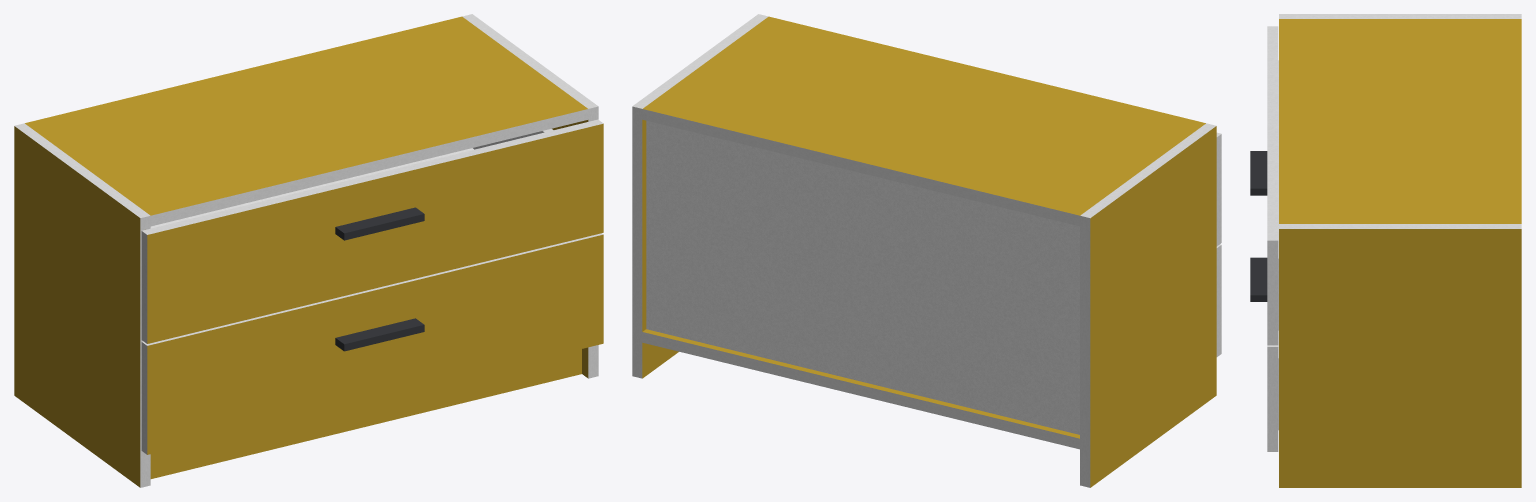
The model's file is FET-KCT-std.glb.
3 views of the same model, side by side, from view 1: azimuth 30°, elevation 25°; view 2: azimuth 150°, elevation 25°; view 3: azimuth 270°, elevation 25° (orthographic). The views are drawn at different scales.
Visible parts, largest first — view 1: top:pbr, d1-front:pbr, d2-front:pbr, side-l:pbr, plinth:pbr, top:sheet:eyJtIjoibWRmIiwic2lkZSI6ImVkZ2UtbG9uZyIsInNlZWQiOj, d2-front:sheet:eyJtIjoibWRmIiwic2lkZSI6ImVkZ2UtbG9uZyIsInNlZ, pull, side-l:sheet:eyJtIjoibWRmIiwic2lkZSI6ImVkZ2UtZW5kIiwic2VlZCI, side-r:sheet:eyJtIjoibWRmIiwic2lkZSI6ImVkZ2UtZW5kIiwic2VlZCI, d1-front:sheet:eyJtIjoibWRmIiwic2lkZSI6ImVkZ2UtbG9uZyIsInNlZ, side-l:sheet:eyJtIjoibWRmIiwic2lkZSI6ImVkZ2UtbG9uZyIsInNlZWQ (+3 smaller); view 2: back:sheet:eyJtIjoibWRmIiwic2lkZSI6ImZhY2UiLCJzZWVkIjo0LCJ0a, top:pbr, side-l:pbr, top:sheet:eyJtIjoibWRmIiwic2lkZSI6ImVkZ2UtbG9uZyIsInNlZWQiOj, bottom:sheet:eyJtIjoibWRmIiwic2lkZSI6ImVkZ2UtbG9uZyIsInNlZWQ, side-r:sheet:eyJtIjoibWRmIiwic2lkZSI6ImVkZ2UtbG9uZyIsInNlZWQ, side-l:sheet:eyJtIjoibWRmIiwic2lkZSI6ImVkZ2UtbG9uZyIsInNlZWQ, bottom:pbr, side-r:pbr, side-r:sheet:eyJtIjoibWRmIiwic2lkZSI6ImVkZ2UtZW5kIiwic2VlZCI, side-l:sheet:eyJtIjoibWRmIiwic2lkZSI6ImVkZ2UtZW5kIiwic2VlZCI, d2-front:sheet:eyJtIjoibWRmIiwic2lkZSI6ImVkZ2UtZW5kIiwic2VlZ (+1 smaller); view 3: side-r:pbr, top:pbr, d2-front:sheet:eyJtIjoibWRmIiwic2lkZSI6ImVkZ2UtbG9uZyIsInNlZ, pull, d2-front:sheet:eyJtIjoibWRmIiwic2lkZSI6ImVkZ2UtZW5kIiwic2VlZ, d1-front:sheet:eyJtIjoibWRmIiwic2lkZSI6ImVkZ2UtZW5kIiwic2VlZ, side-l:sheet:eyJtIjoibWRmIiwic2lkZSI6ImVkZ2UtZW5kIiwic2VlZCI, side-r:sheet:eyJtIjoibWRmIiwic2lkZSI6ImVkZ2UtZW5kIiwic2VlZCI.
Boxes of the visible parts, box(x1,y1,x2,y2) form: top:pbr: box(25, 16, 587, 215); d1-front:pbr: box(147, 234, 603, 454); d2-front:pbr: box(147, 123, 603, 343); side-l:pbr: box(14, 126, 140, 487); plinth:pbr: box(150, 349, 581, 478); top:sheet:eyJtIjoibWRmIiwic2lkZSI6ImVkZ2UtbG9uZyIsInNlZWQiOj: box(150, 109, 588, 226); d2-front:sheet:eyJtIjoibWRmIiwic2lkZSI6ImVkZ2UtbG9uZyIsInNlZ: box(142, 119, 603, 234); pull: box(335, 207, 424, 351); side-l:sheet:eyJtIjoibWRmIiwic2lkZSI6ImVkZ2UtZW5kIiwic2VlZCI: box(14, 123, 150, 217); side-r:sheet:eyJtIjoibWRmIiwic2lkZSI6ImVkZ2UtZW5kIiwic2VlZCI: box(462, 14, 598, 108); d1-front:sheet:eyJtIjoibWRmIiwic2lkZSI6ImVkZ2UtbG9uZyIsInNlZ: box(142, 233, 603, 345); side-l:sheet:eyJtIjoibWRmIiwic2lkZSI6ImVkZ2UtbG9uZyIsInNlZWQ: box(140, 216, 150, 487); back:sheet:eyJtIjoibWRmIiwic2lkZSI6ImZhY2UiLCJzZWVkIjo0LCJ0a: box(646, 120, 1079, 434); top:pbr: box(643, 16, 1205, 215); side-l:pbr: box(1090, 126, 1216, 487); top:sheet:eyJtIjoibWRmIiwic2lkZSI6ImVkZ2UtbG9uZyIsInNlZWQiOj: box(642, 109, 1079, 226); bottom:sheet:eyJtIjoibWRmIiwic2lkZSI6ImVkZ2UtbG9uZyIsInNlZWQ: box(642, 332, 1079, 449); side-r:sheet:eyJtIjoibWRmIiwic2lkZSI6ImVkZ2UtbG9uZyIsInNlZWQ: box(632, 106, 642, 378); side-l:sheet:eyJtIjoibWRmIiwic2lkZSI6ImVkZ2UtbG9uZyIsInNlZWQ: box(1080, 215, 1090, 487); bottom:pbr: box(643, 329, 1079, 438); side-r:pbr: box(642, 119, 678, 378); side-r:sheet:eyJtIjoibWRmIiwic2lkZSI6ImVkZ2UtZW5kIiwic2VlZCI: box(632, 14, 768, 108); side-l:sheet:eyJtIjoibWRmIiwic2lkZSI6ImVkZ2UtZW5kIiwic2VlZCI: box(1080, 123, 1216, 218); d2-front:sheet:eyJtIjoibWRmIiwic2lkZSI6ImVkZ2UtZW5kIiwic2VlZ: box(1216, 134, 1221, 246); side-r:pbr: box(1279, 229, 1521, 487); top:pbr: box(1279, 19, 1521, 223); d2-front:sheet:eyJtIjoibWRmIiwic2lkZSI6ImVkZ2UtbG9uZyIsInNlZ: box(1267, 26, 1278, 240); pull: box(1250, 151, 1267, 301); d2-front:sheet:eyJtIjoibWRmIiwic2lkZSI6ImVkZ2UtZW5kIiwic2VlZ: box(1267, 240, 1278, 345); d1-front:sheet:eyJtIjoibWRmIiwic2lkZSI6ImVkZ2UtZW5kIiwic2VlZ: box(1267, 347, 1278, 451); side-l:sheet:eyJtIjoibWRmIiwic2lkZSI6ImVkZ2UtZW5kIiwic2VlZCI: box(1279, 14, 1521, 18); side-r:sheet:eyJtIjoibWRmIiwic2lkZSI6ImVkZ2UtZW5kIiwic2VlZCI: box(1279, 224, 1521, 228).
Bounding box in the file's own units: 0.8 × 0.45 × 0.4267.
Materials: 55 (47 with a texture image).
